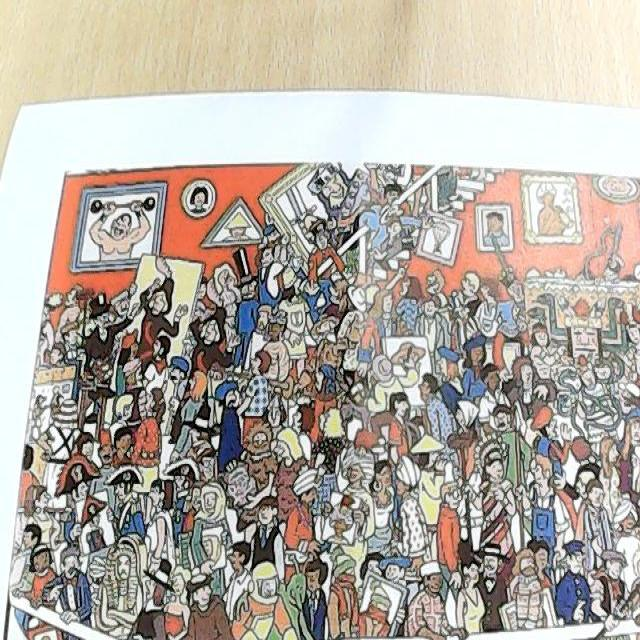waldo: (192, 441, 218, 486)
